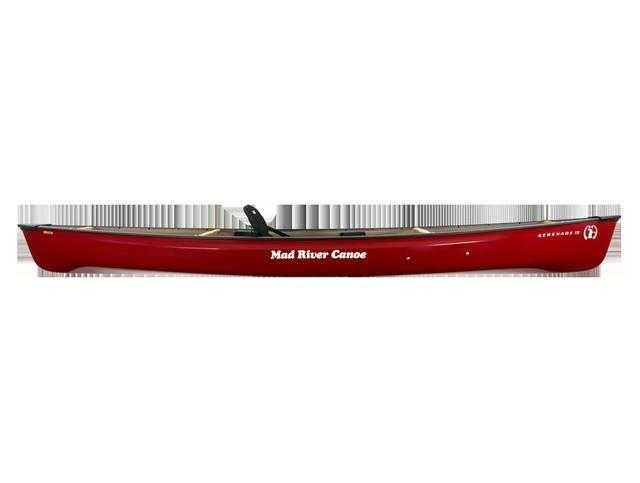kayak: (14, 201, 622, 279)
